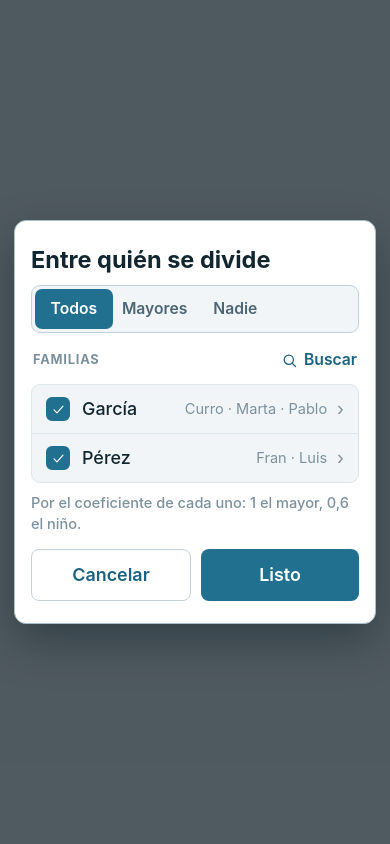
Scenario: Entre quién se divide · las familias › el cuerpo de la fila abre la familia y saca a su gente
Click the button "García Curro · Marta · Pablo ›".
click(217, 409)  # box [76,385,358,433]
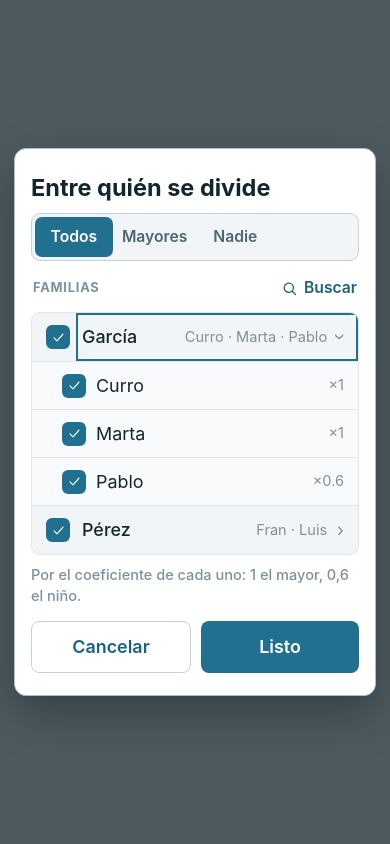
Expected: the text "Curro" is shown, [96,375,144,396]
Expected: the text "Marta" is shown, [96,423,145,444]
Expected: the button with class "sangrada" showing "Curro ×1" is shown, [32,361,358,409]
